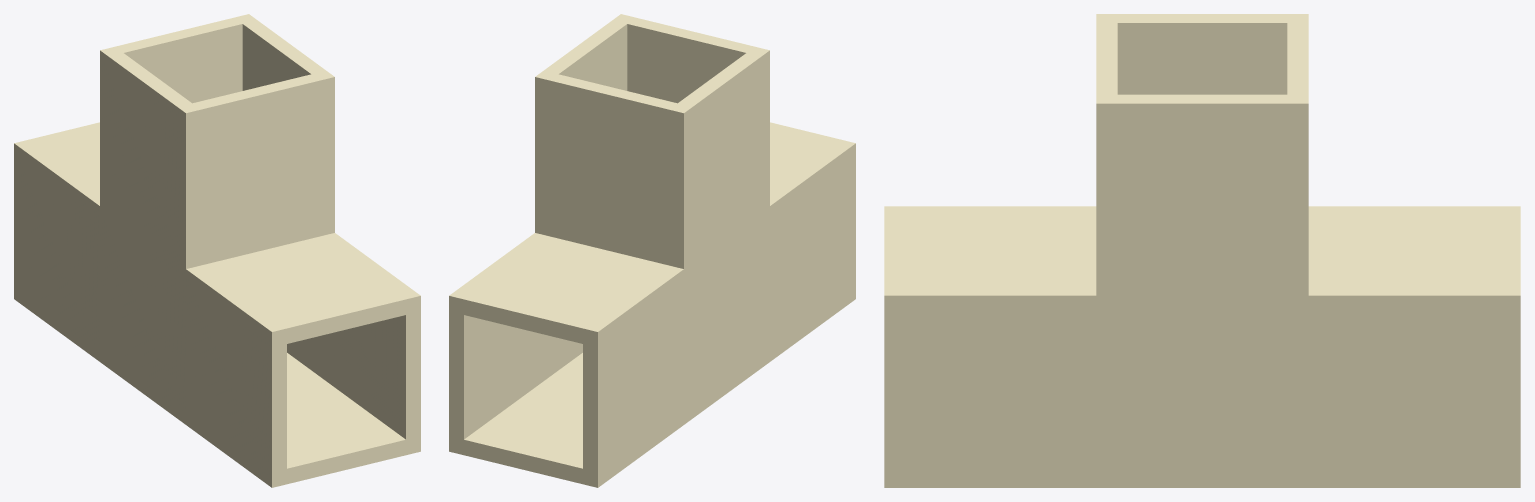
Rendered from tubing part 1.fbx.
3 renders of one model, left to right at view 1: azimuth 30°, elevation 25°; view 2: azimuth 150°, elevation 25°; view 3: azimuth 270°, elevation 25°, orthographic. The views are drawn at different scales.
Visible parts, largest first — view 1: Cube.002; view 2: Cube.002; view 3: Cube.002.
Part boxes in pixels (x1,y1,x2,y2): Cube.002: [14, 14, 420, 487]; Cube.002: [449, 14, 855, 487]; Cube.002: [884, 14, 1520, 487].
Size of the model in its own units: 200 by 400 by 600.
